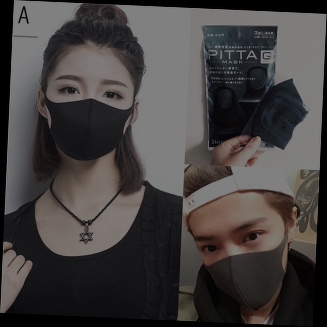with_mask: (190, 214, 288, 316), (43, 72, 135, 165)
